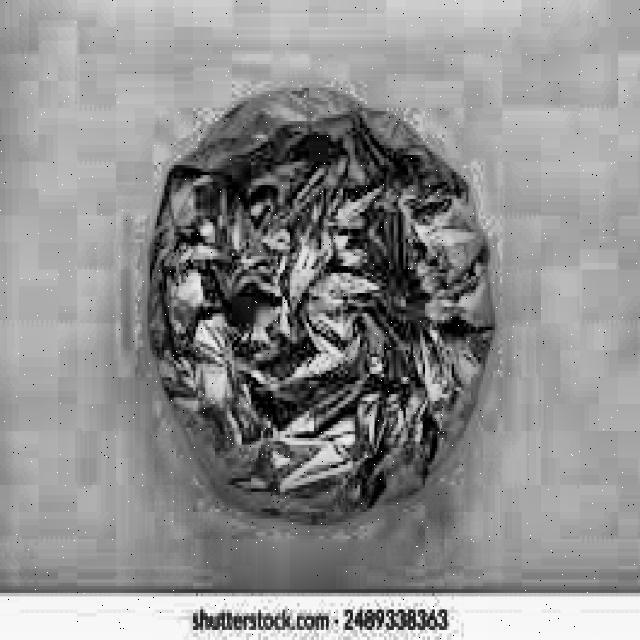Trashbag: (140, 78, 508, 522)
